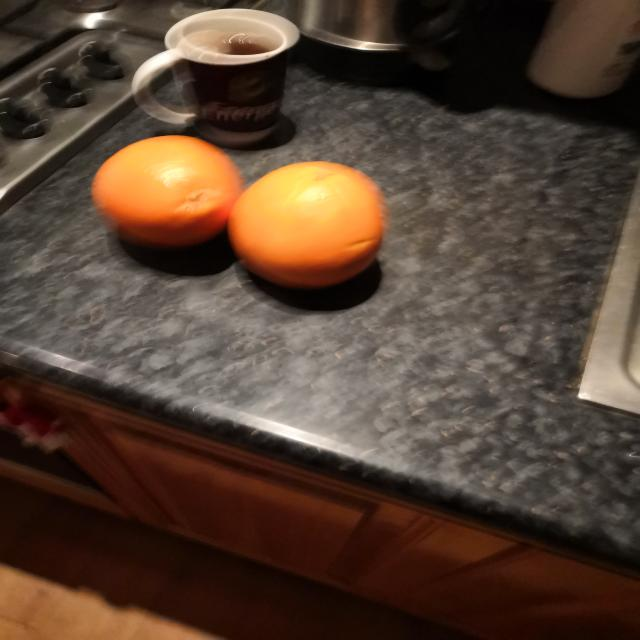orange: (227, 161, 387, 289), (92, 135, 243, 248)
